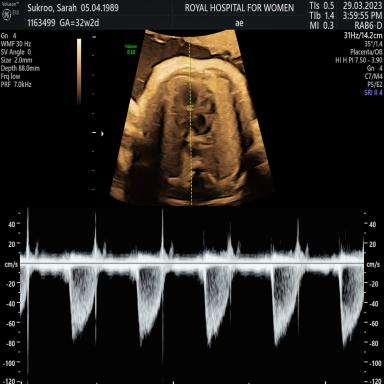Ultrasound-Waves: (26, 209, 362, 384)
